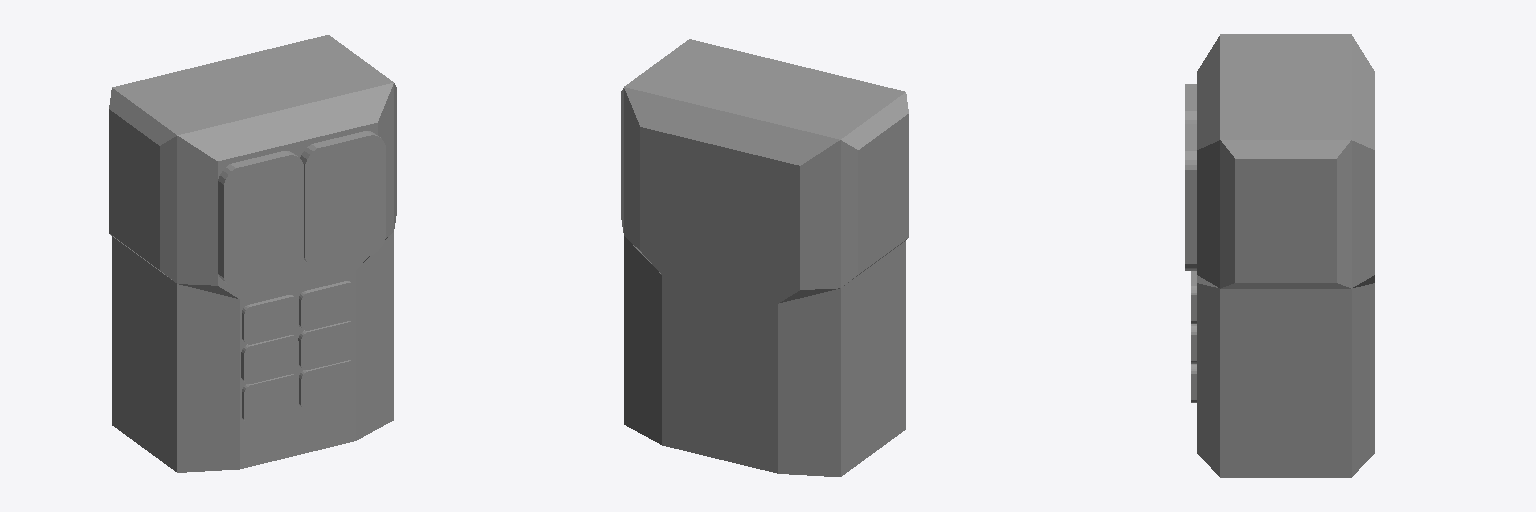
The model's file is custom_body.obj.
3 views of the same model, side by side, from view 1: azimuth 30°, elevation 25°; view 2: azimuth 150°, elevation 25°; view 3: azimuth 270°, elevation 25° (orthographic).
Parts seen in each view (by area): view 1: Cube; view 2: Cube; view 3: Cube.
Boxes of the visible parts, x1=… form: Cube: x1=109, y1=35, x2=396, y2=472; Cube: x1=621, y1=39, x2=908, y2=476; Cube: x1=1185, y1=34, x2=1374, y2=477.
Bounding box in the file's own units: 0.6376 × 0.8663 × 0.4435.